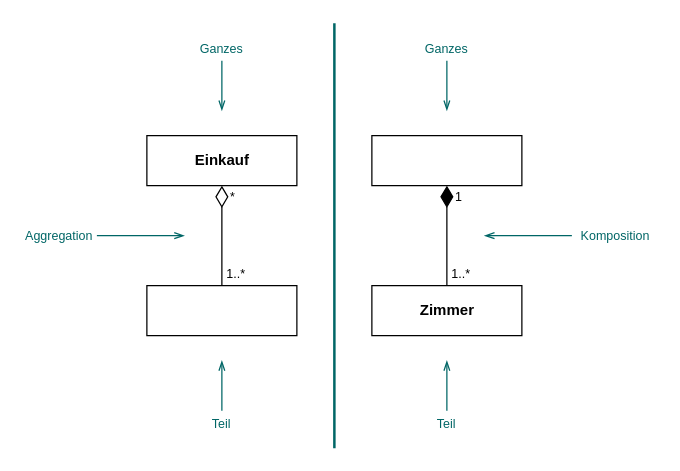
This 680x471 diagram has some shape labels left out. The box of each missing label's shape, as (x1, y1, x2, y2) in pixels:
Haus: (371, 134, 522, 186)
Produkt: (146, 284, 297, 336)
